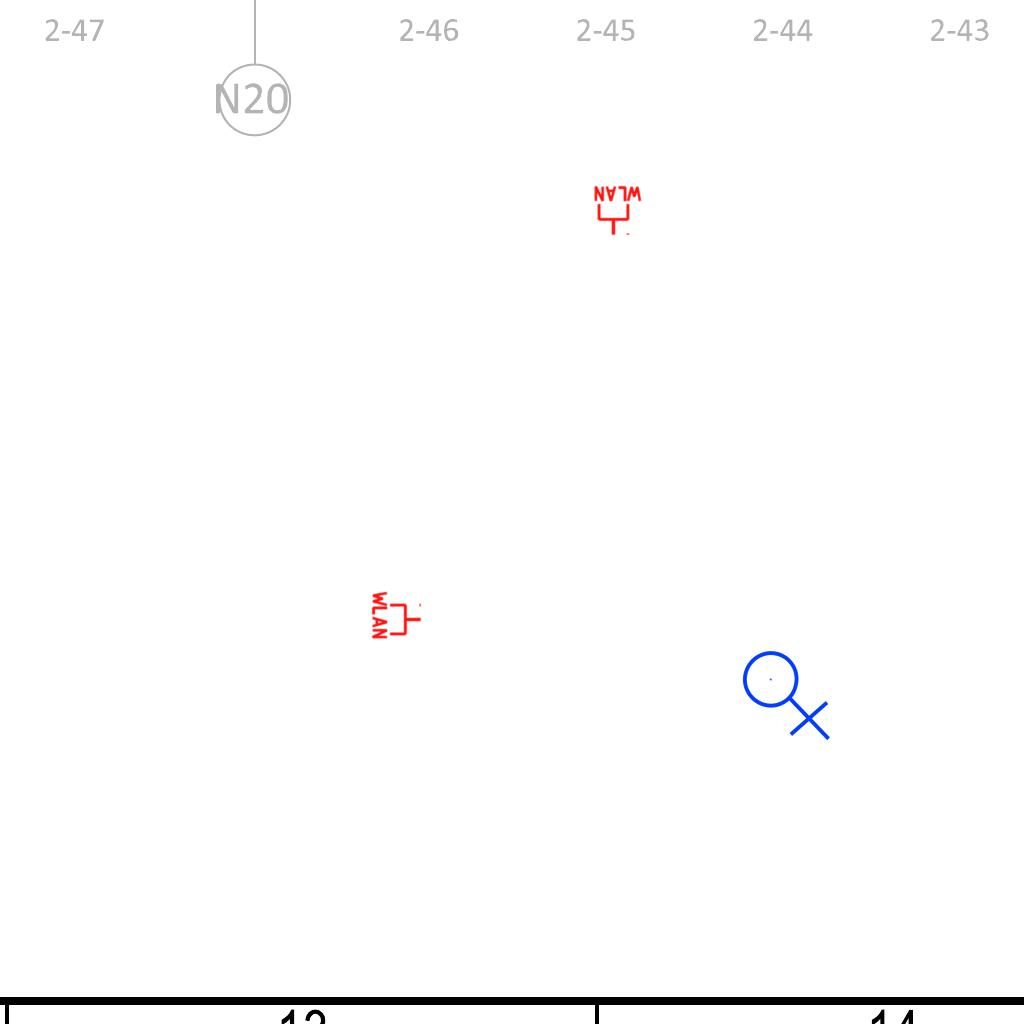Elektroanschluss_allgemein_230V_Geraeteanschlussdose_230V: (741, 642, 835, 741)
WLAN: (371, 589, 423, 641), (592, 185, 644, 237)
